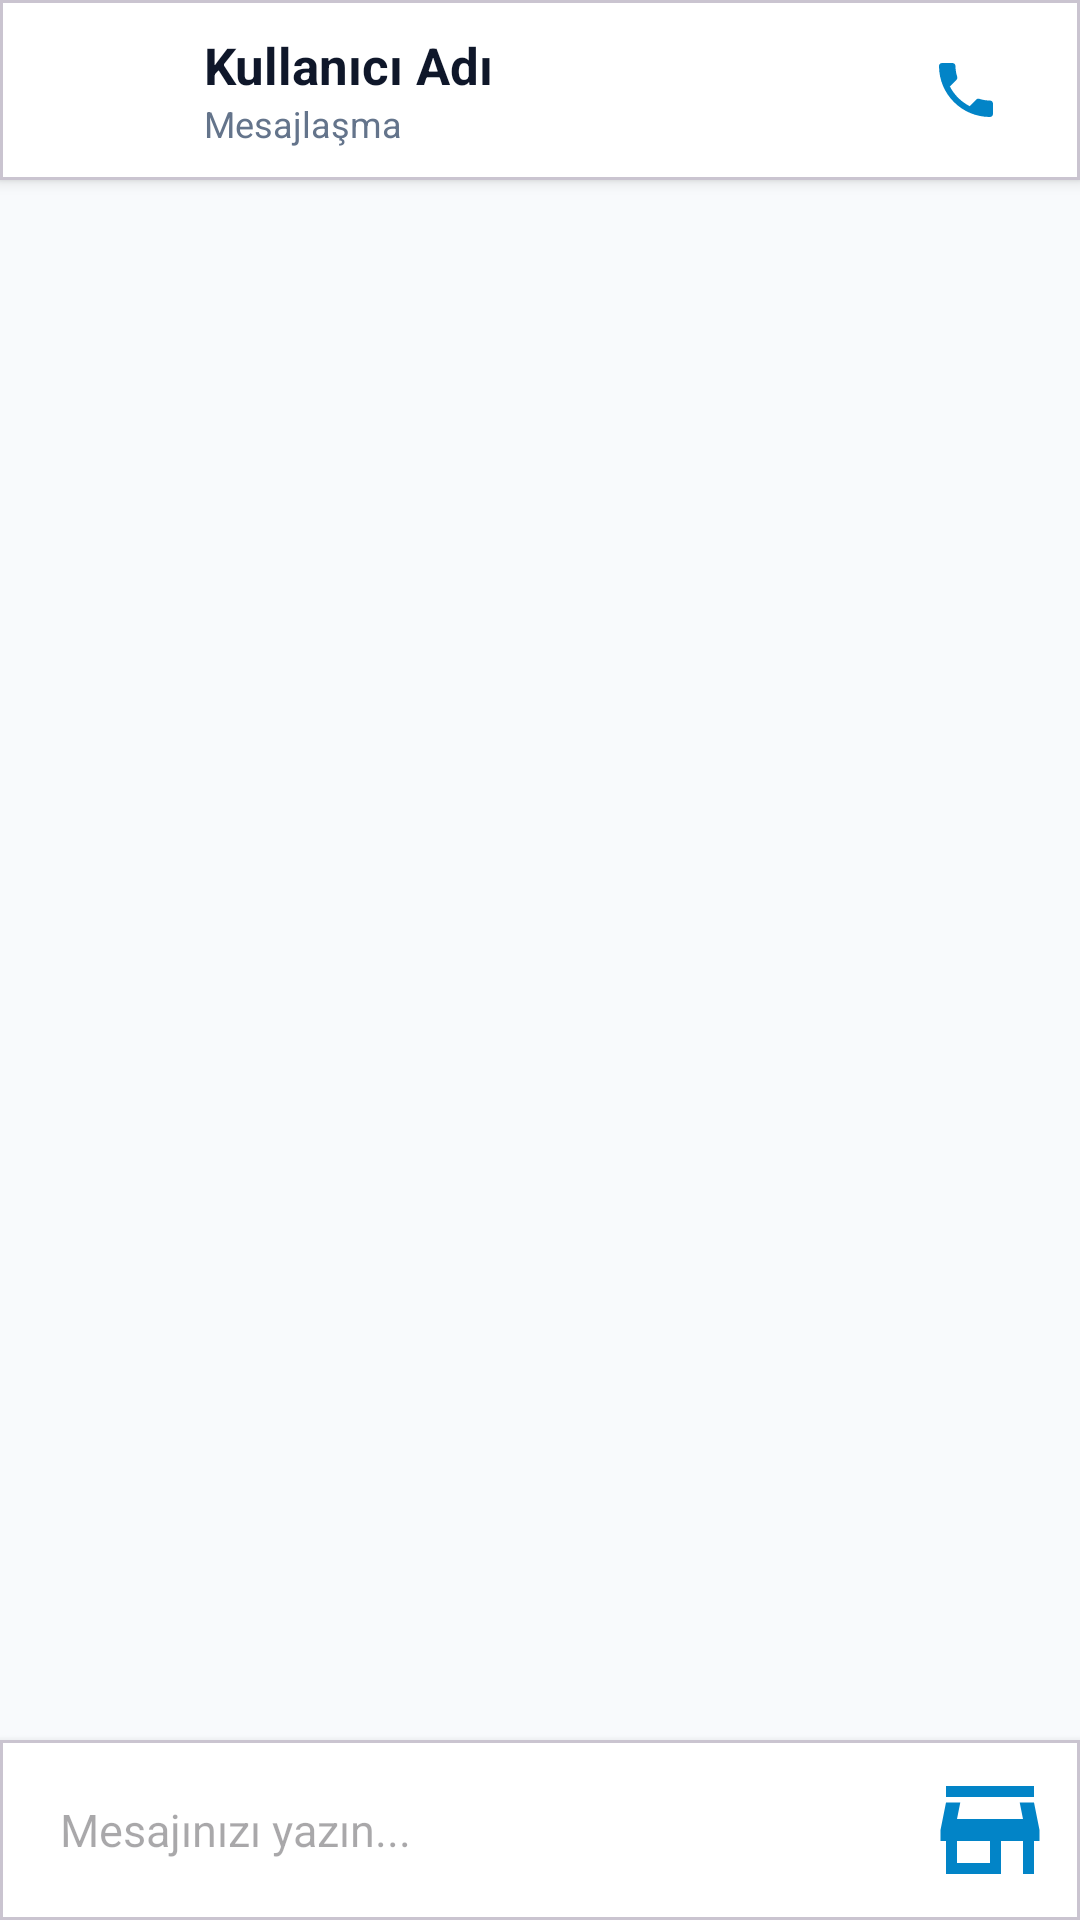

Screen size 1080 x 1920. Icon name, then its box in pixels as bbox(x1, y1, x2, y2):
Telefon Numarası: bbox(939, 63, 993, 117)
